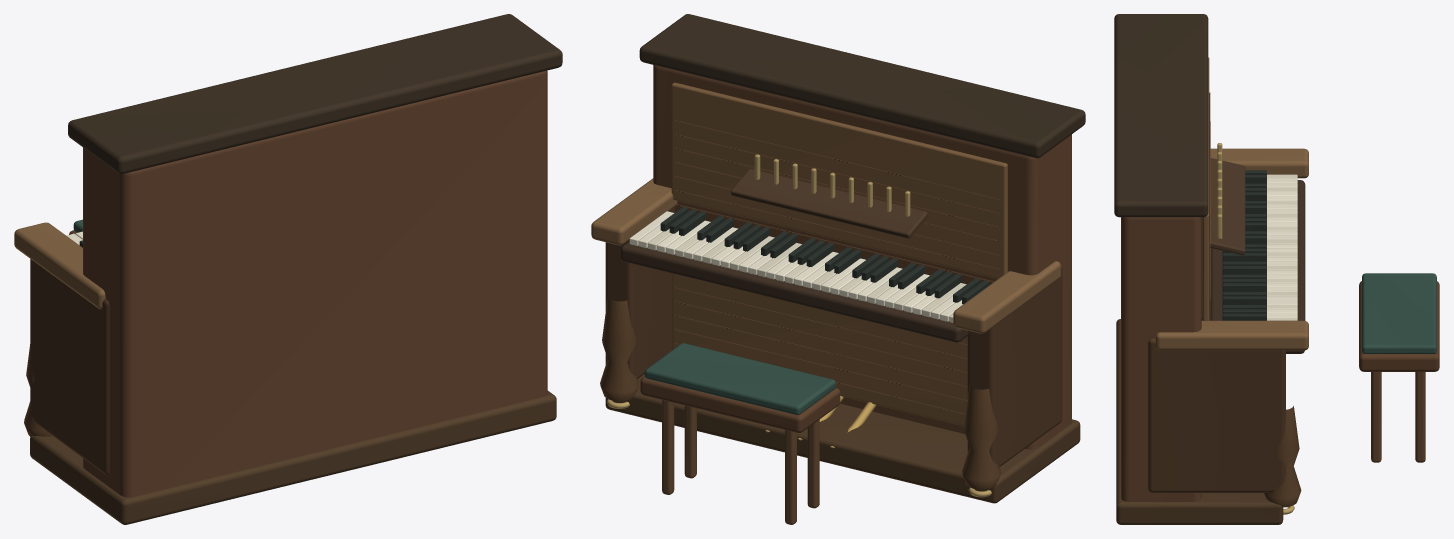
Rendered from outdoor-piano.glb.
3 views of the same model, side by side, from view 1: azimuth 30°, elevation 25°; view 2: azimuth 150°, elevation 25°; view 3: azimuth 270°, elevation 25° (orthographic). The views are drawn at different scales.
Parts seen in each view (by area): view 1: outdoor-piano-wood; view 2: outdoor-piano-wood, outdoor-piano-porcelain, outdoor-piano-metal; view 3: outdoor-piano-wood, outdoor-piano-porcelain, outdoor-piano-metal.
Boxes of the visible parts, x1,y1,x2,y2 form: outdoor-piano-wood: (14,14,562,524); outdoor-piano-wood: (591,14,1085,524); outdoor-piano-porcelain: (629,207,989,322); outdoor-piano-metal: (607,154,991,497); outdoor-piano-wood: (1114,14,1439,524); outdoor-piano-porcelain: (1222,170,1297,320); outdoor-piano-metal: (1217,143,1294,514).
Size of the model in its own units: 2.35 by 1.87 by 1.7.
